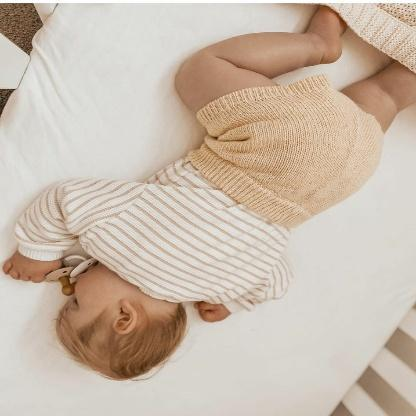baby: (2, 8, 415, 382)
